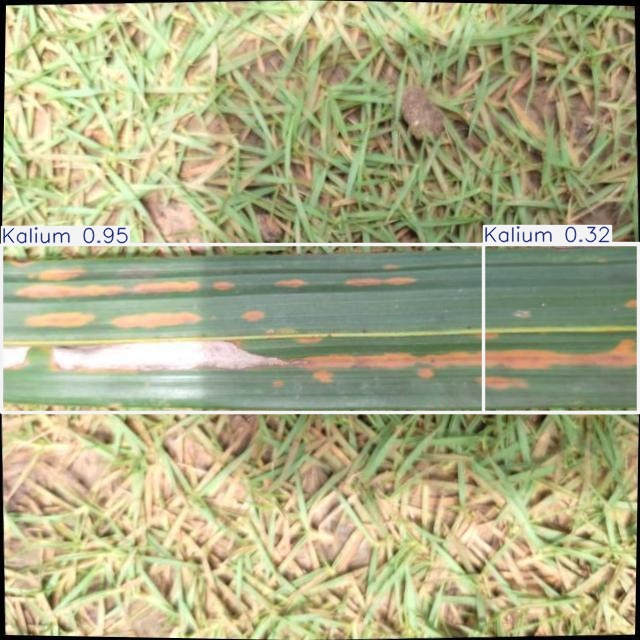Kalium: (2, 245, 639, 412), (483, 243, 640, 412)
